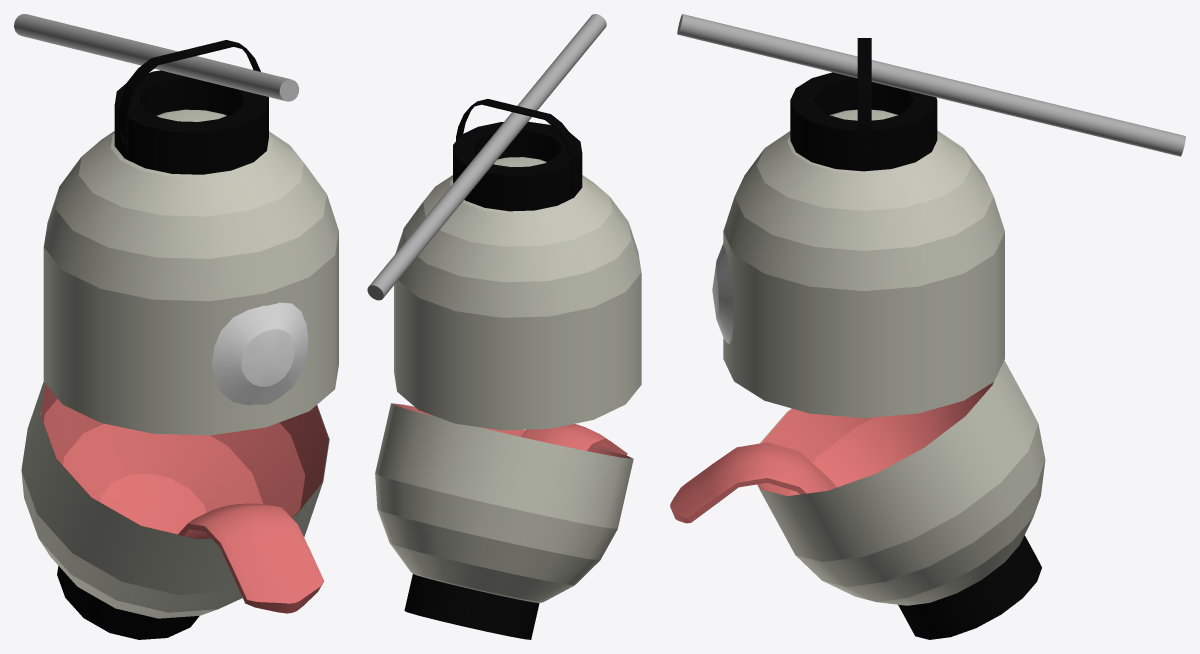
The model's file is Flyingenemy1(Tyotin).fbx.
3 renders of one model, left to right at view 1: azimuth 30°, elevation 25°; view 2: azimuth 150°, elevation 25°; view 3: azimuth 270°, elevation 25°, orthographic. The views are drawn at different scales.
Parts seen in each view (by area): view 1: pSphere4, pasted__pSphere1; view 2: pSphere4, pasted__pSphere1; view 3: pSphere4, pasted__pSphere1.
Boxes of the visible parts, bbox=[...] form: pSphere4: bbox=[14, 14, 338, 435]; pasted__pSphere1: bbox=[21, 381, 329, 639]; pSphere4: bbox=[367, 14, 641, 430]; pasted__pSphere1: bbox=[375, 403, 633, 639]; pSphere4: bbox=[677, 14, 1185, 418]; pasted__pSphere1: bbox=[670, 360, 1045, 639].
Size of the model in its own units: 5.9 by 14.12 by 10.79.
